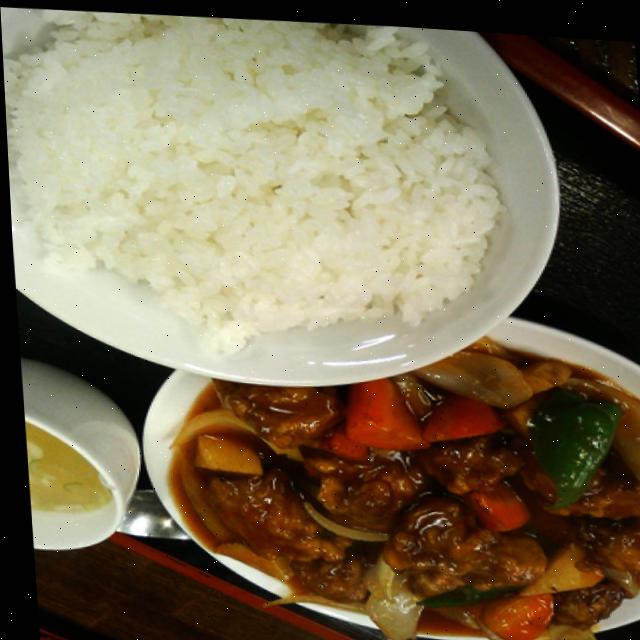猪肉菜式: (152, 317, 640, 640)
米饭主食: (0, 0, 567, 402)
